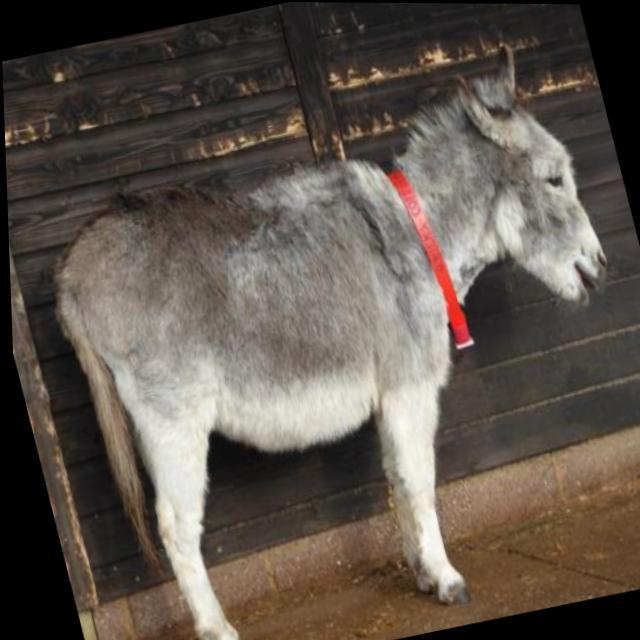Donkey: (11, 29, 640, 640)
